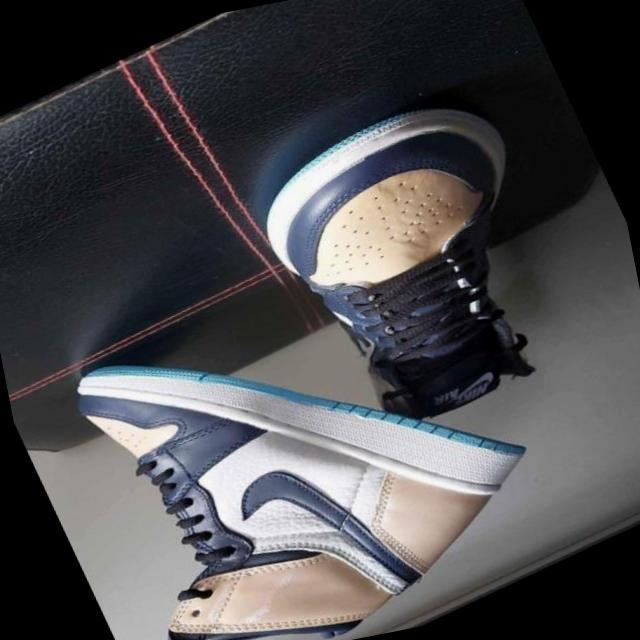nike_fake_jordan: (34, 200, 581, 640), (223, 62, 622, 504)
